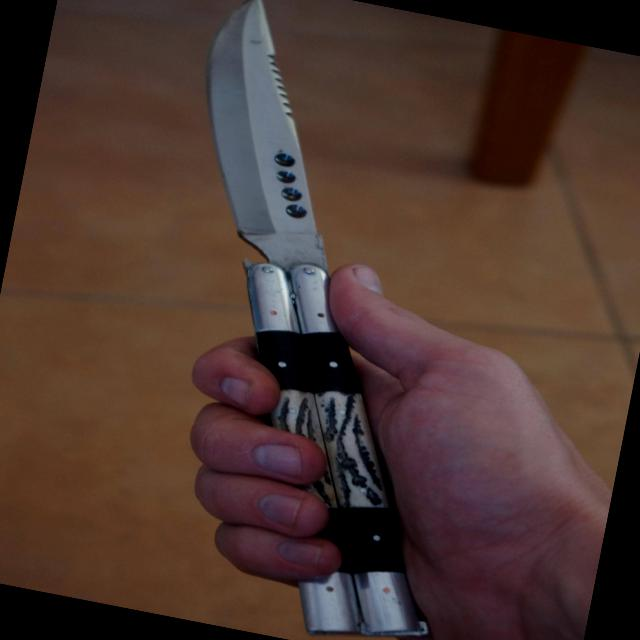knife: (125, 0, 533, 520)
